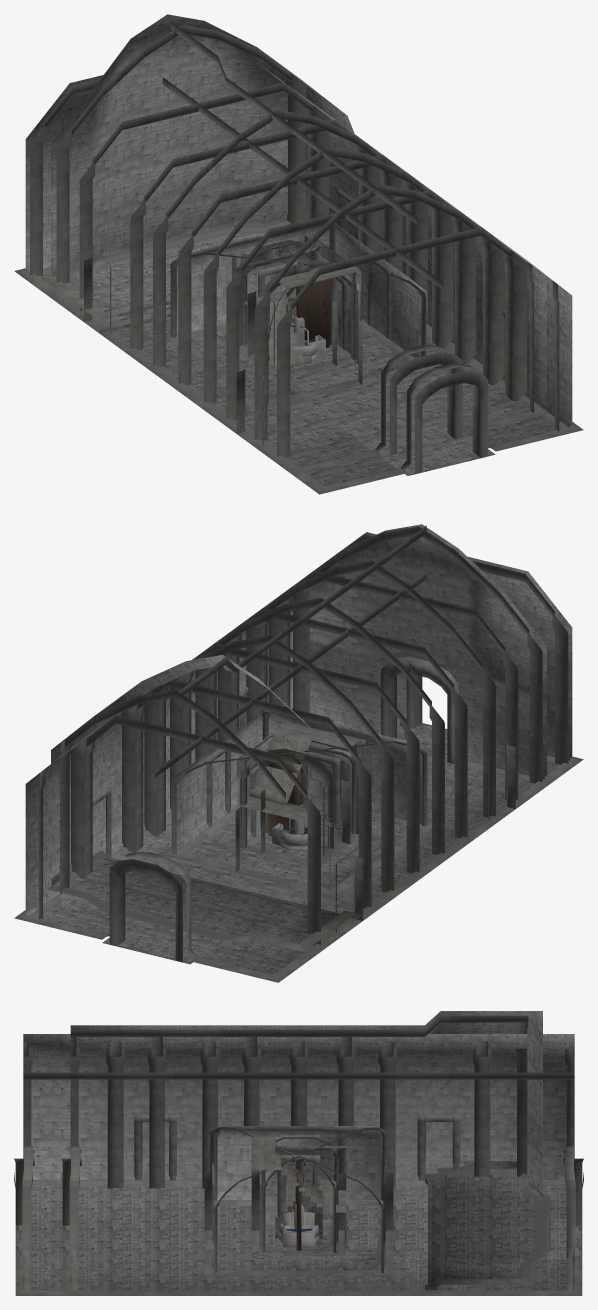
Rendered from DungeonGLB.glb.
The picture shows the model from 3 angles, top to bottom: view 1: azimuth 30°, elevation 25°; view 2: azimuth 150°, elevation 25°; view 3: azimuth 270°, elevation 25°; orthographic projection. The views are drawn at different scales.
Visible parts, largest first — view 1: L_Room_Chappel, L_Room_Square, L_Room_Square_Doors, M_Room_2Door, S_Stairs_Middle, M_Room_4Door, S_Room_2Door, L_Door, S_Hall_End_Door, S_Hall_2Door, S_Hall_LargeDoor, S_Room_4Door; view 2: L_Room_Chappel, L_Room_Square, L_Room_Square_Doors, M_Room_2Door, M_Room_4Door, S_Stairs_Middle, S_Room_2Door, S_Hall_LargeDoor, S_Hall_2Door, S_Hall_End_Door, S_Room_4Door, L_Door (+1 smaller); view 3: L_Room_Square, L_Room_Chappel, M_Room_2Door, L_Room_Square_Doors, S_Stairs_Middle, M_Room_4Door, S_Room_2Door, S_Hall_End_Door, S_Hall_LargeDoor, S_Room_4Door, Decoration_WallFountain_Water, S_Hall_2Door (+3 smaller).
Part boxes in pixels (x1,y1,x2,y2): L_Room_Chappel: (40,14,549,475); L_Room_Square: (14,65,583,494); L_Room_Square_Doors: (30,80,570,464); M_Room_2Door: (166,222,437,407); S_Stairs_Middle: (236,234,361,368); M_Room_4Door: (197,223,426,357); S_Room_2Door: (242,248,356,376); L_Door: (296,279,329,348); S_Hall_End_Door: (239,240,367,377); S_Hall_2Door: (247,252,361,367); S_Hall_LargeDoor: (239,253,366,365); S_Room_4Door: (246,255,349,365); L_Room_Chappel: (47,524,556,951); L_Room_Square: (14,532,583,982); L_Room_Square_Doors: (25,534,567,958); M_Room_2Door: (160,709,431,897); M_Room_4Door: (171,712,426,872); S_Stairs_Middle: (236,722,361,852); S_Room_2Door: (231,740,355,865); S_Hall_LargeDoor: (231,748,358,865); S_Hall_2Door: (236,745,350,855); S_Hall_End_Door: (233,750,358,864); S_Room_4Door: (241,743,339,833); L_Door: (268,761,301,836); L_Room_Square: (15,1034,583,1295); L_Room_Chappel: (61,1011,550,1295); M_Room_2Door: (204,1126,393,1275); L_Room_Square_Doors: (14,1034,582,1225); S_Stairs_Middle: (251,1136,346,1238); M_Room_4Door: (204,1126,385,1269); S_Room_2Door: (251,1146,345,1255); S_Hall_End_Door: (265,1146,346,1255); S_Hall_LargeDoor: (265,1146,346,1255); S_Room_4Door: (251,1146,338,1249); Decoration_WallFountain_Water: (283,1212,314,1247); S_Hall_2Door: (265,1146,343,1218).
Bounding box in the file's own units: 18 × 16.99 × 36.2.
Materials: 1 (1 with a texture image).
